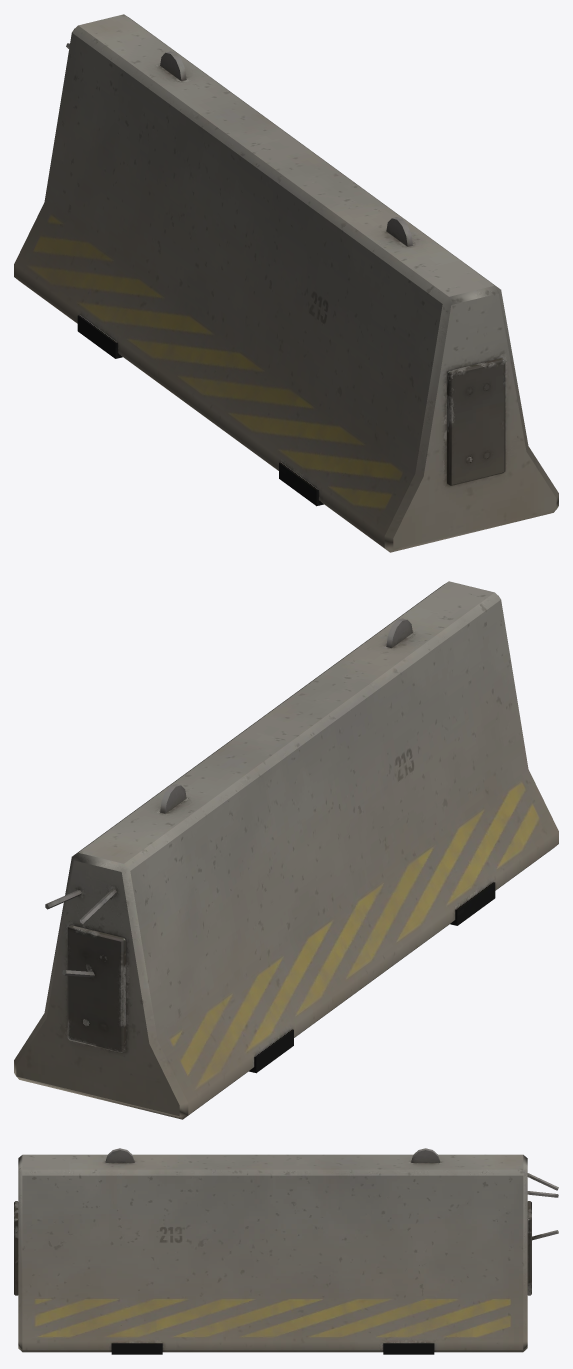
The model's file is hs_concrete_barrier_lod0.glb.
The picture shows the model from 3 angles, top to bottom: view 1: azimuth 30°, elevation 25°; view 2: azimuth 150°, elevation 25°; view 3: azimuth 270°, elevation 25°; orthographic projection. The views are drawn at different scales.
Bounding box in the file's own units: 0.82 × 1.14 × 3.21.
Materials: 1 (1 with a texture image).
